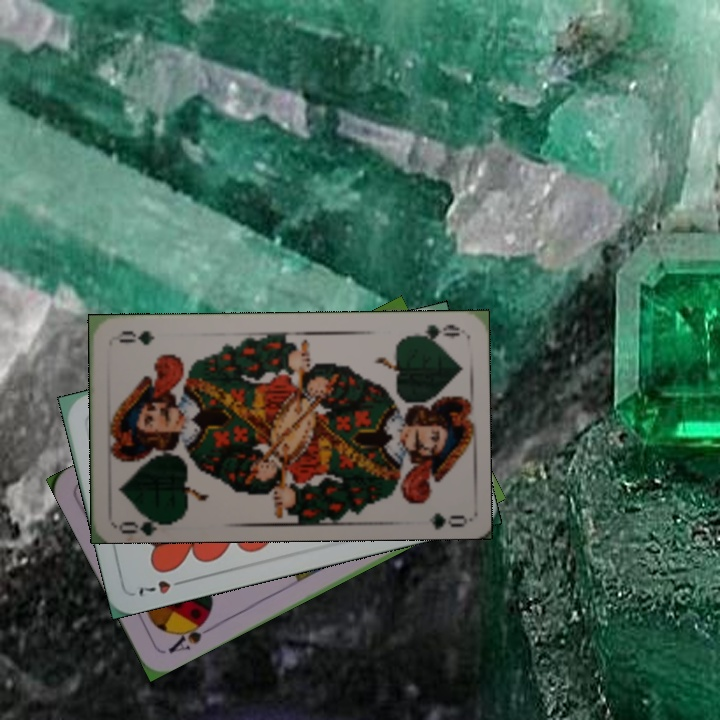GO: (116, 507, 175, 534), (404, 321, 463, 345)
H7: (134, 575, 190, 600)
SA: (164, 613, 217, 656)
